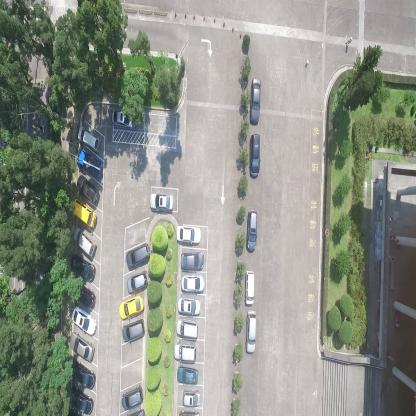car: (70, 306, 98, 336), (67, 332, 95, 362), (72, 226, 96, 259), (69, 254, 96, 283), (76, 149, 102, 179), (76, 174, 99, 207), (70, 361, 96, 390), (71, 198, 96, 228), (70, 281, 96, 309), (119, 294, 144, 321), (126, 242, 150, 270), (69, 388, 94, 414), (76, 124, 100, 151), (121, 384, 145, 410), (249, 77, 261, 125), (246, 206, 258, 254), (149, 190, 173, 214), (112, 106, 136, 130), (122, 318, 145, 343), (127, 269, 149, 295), (176, 224, 201, 246), (249, 132, 260, 180), (172, 342, 198, 362), (245, 308, 256, 354), (180, 273, 204, 294), (176, 364, 198, 386), (176, 319, 199, 340), (180, 250, 204, 270), (177, 296, 201, 316), (244, 270, 255, 306), (182, 388, 201, 408)
